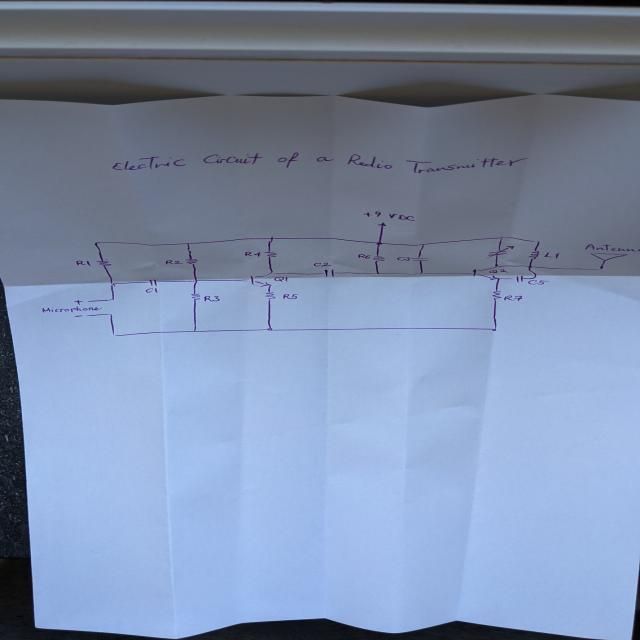capacitor: (484, 244, 516, 258), (321, 268, 337, 278), (510, 274, 525, 283), (410, 255, 429, 262), (148, 278, 160, 286)
inductor: (526, 249, 540, 260)
junction: (188, 278, 200, 284), (265, 326, 275, 332), (110, 332, 119, 338), (266, 236, 274, 242), (109, 282, 118, 287), (374, 240, 383, 245), (498, 236, 507, 240), (106, 312, 114, 316), (490, 327, 498, 331), (526, 264, 534, 268), (596, 266, 604, 270), (110, 298, 117, 302), (191, 328, 198, 332), (532, 240, 540, 243), (529, 276, 536, 279), (417, 271, 424, 274), (184, 242, 191, 245), (92, 241, 99, 244), (374, 272, 381, 274), (420, 243, 425, 245)
resistor: (94, 259, 112, 267), (189, 292, 202, 302), (372, 254, 386, 263), (184, 258, 199, 266), (264, 290, 276, 300), (491, 290, 502, 300), (263, 251, 277, 258)
source: (377, 222, 387, 226)
terminal: (84, 314, 90, 316), (85, 300, 90, 302)
text: (109, 152, 530, 174), (362, 210, 416, 222), (583, 243, 639, 252), (40, 305, 103, 312), (502, 294, 523, 302), (526, 279, 550, 285), (74, 259, 92, 267), (282, 292, 298, 300), (202, 295, 220, 302), (542, 252, 560, 259), (488, 268, 508, 274), (312, 262, 333, 267), (244, 251, 261, 257), (164, 259, 184, 264), (272, 276, 288, 282), (142, 287, 158, 293), (356, 253, 371, 259), (72, 299, 84, 305), (396, 256, 410, 261), (72, 314, 84, 318)
transistor: (471, 264, 502, 280), (246, 271, 276, 287)
